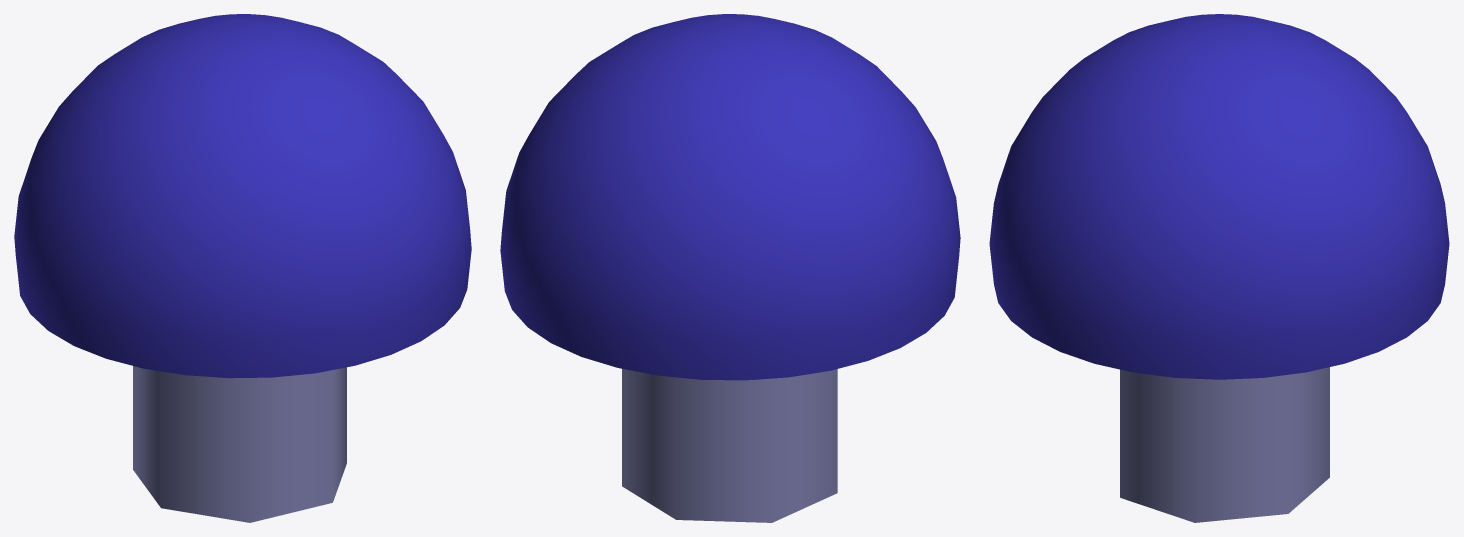
The model's file is grib.fbx.
3 views of the same model, side by side, from view 1: azimuth 30°, elevation 25°; view 2: azimuth 150°, elevation 25°; view 3: azimuth 270°, elevation 25° (orthographic).
Visible parts, largest first — view 1: Sphere, Cylinder; view 2: Sphere, Cylinder; view 3: Sphere, Cylinder.
Boxes of the visible parts, x1,y1,x2,y2 form: Sphere: (14, 14, 471, 378); Cylinder: (133, 366, 346, 522); Sphere: (500, 14, 960, 380); Cylinder: (622, 368, 837, 522); Sphere: (989, 14, 1449, 379); Cylinder: (1120, 367, 1329, 522).
Size of the model in its own units: 41.6 by 44.17 by 41.6.
